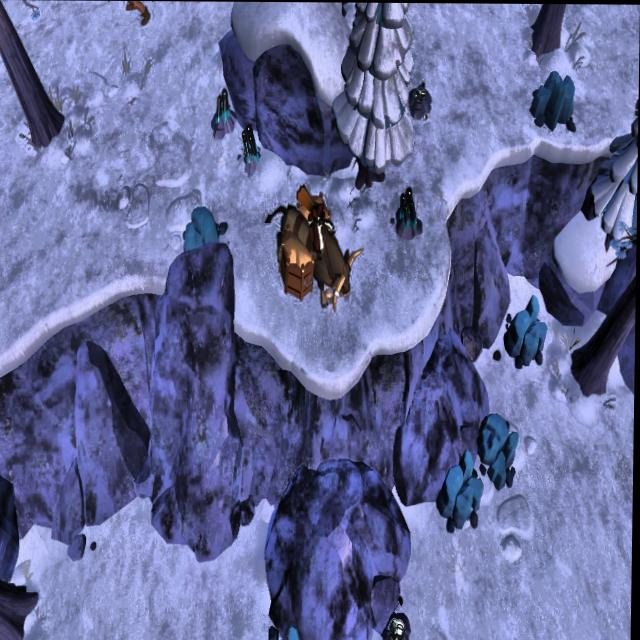ore_t4: (214, 82, 232, 135), (399, 185, 419, 230), (243, 121, 260, 169)
rock_t4: (437, 454, 487, 534), (505, 291, 552, 368), (480, 409, 522, 489), (531, 71, 582, 131), (181, 204, 230, 260)
